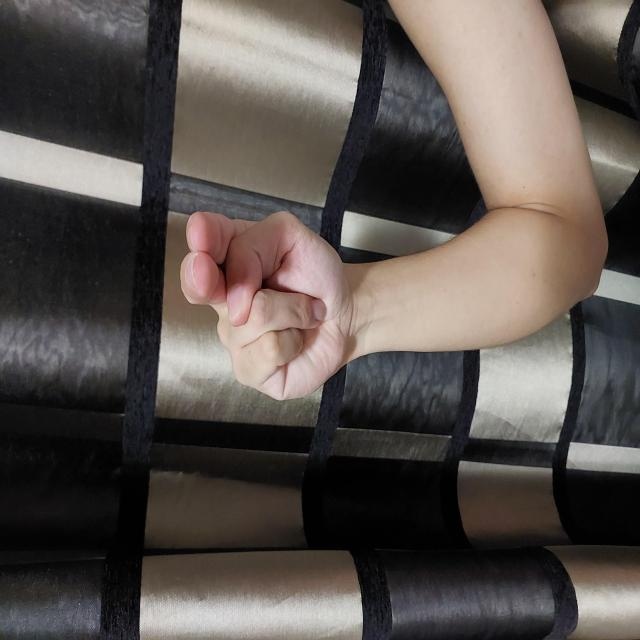N: (238, 178, 432, 358)
